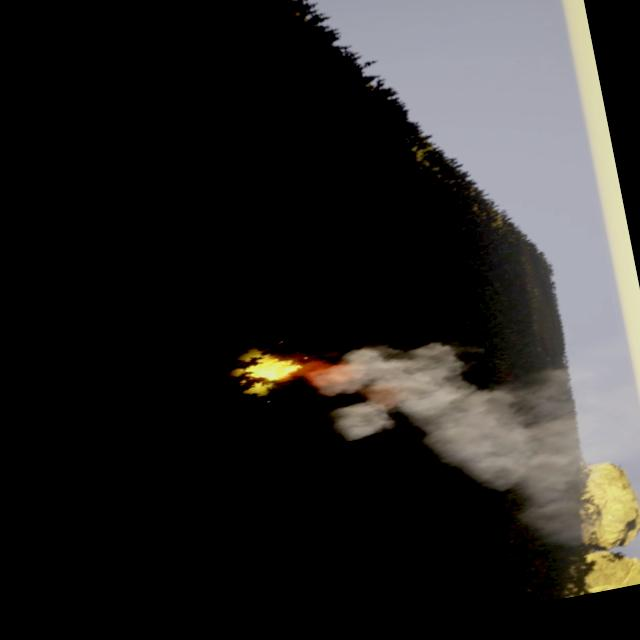fire: (246, 351, 304, 387)
smoke: (299, 303, 639, 592)
